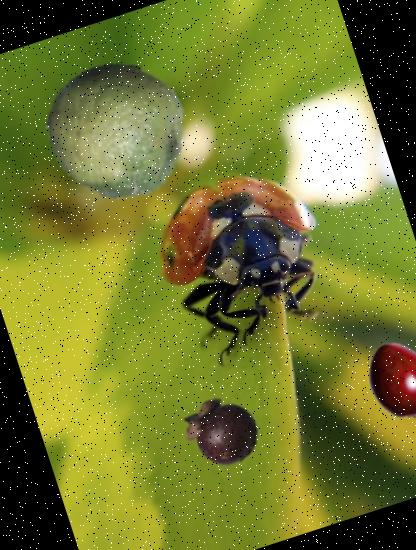Limes: (29, 41, 203, 215)
Mangostan: (174, 382, 270, 477)
Tamarillo: (349, 329, 416, 434)
